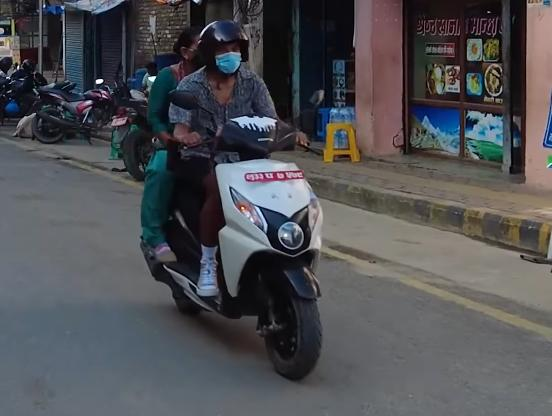bike: (34, 80, 113, 139)
scooter: (137, 111, 340, 389)
